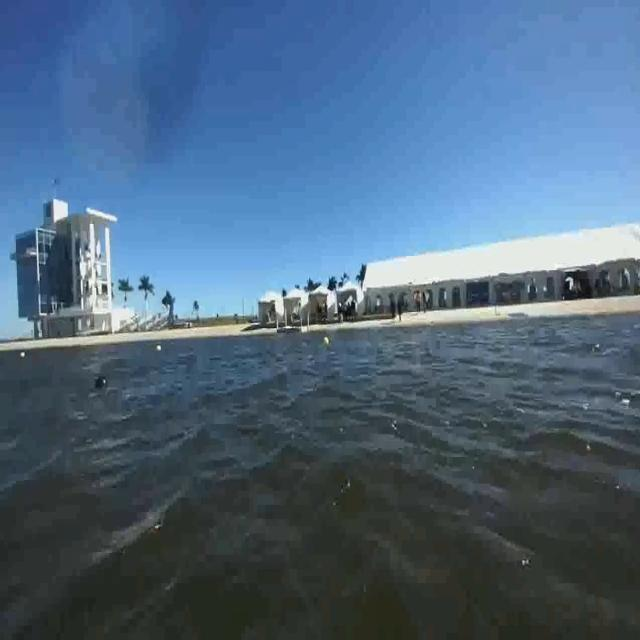black-buoy: (95, 373, 109, 389)
yellow-buoy: (325, 336, 333, 350)
